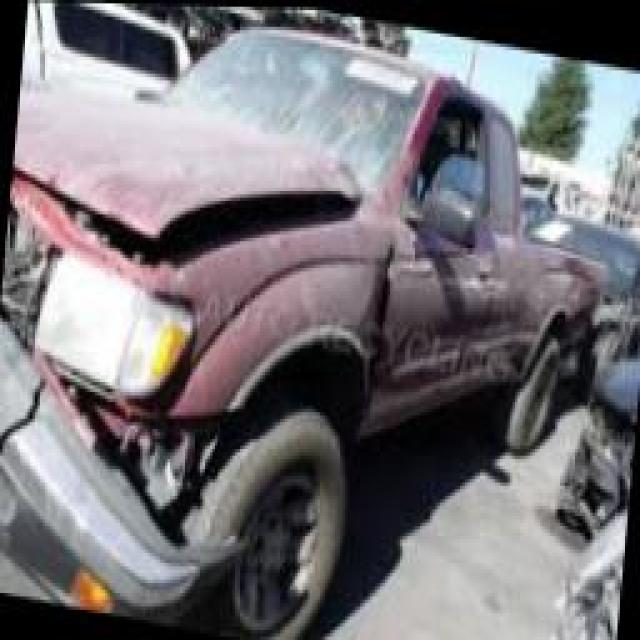Bonnet: (13, 96, 374, 268)
Bumper: (0, 172, 245, 626)
Fender: (131, 214, 406, 427), (507, 240, 608, 371)
Windshield: (157, 26, 426, 185)
